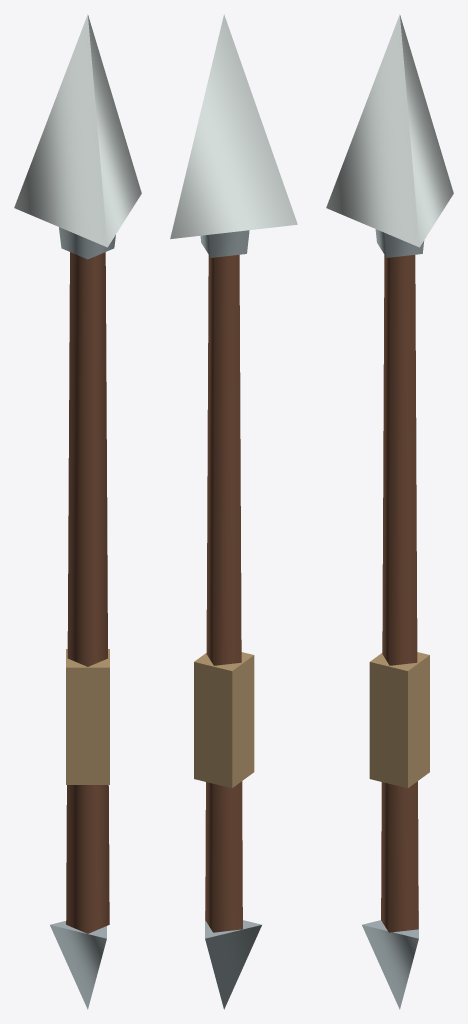
Rendered from fixed-spear-lod2.glb.
3 renders of one model, left to right at view 1: azimuth 90°, elevation 25°; view 2: azimuth 150°, elevation 25°; view 3: azimuth 330°, elevation 25°, orthographic.
Visible parts, largest first — view 1: piece_whole; view 2: piece_whole; view 3: piece_whole.
Boxes of the visible parts, <box> form: piece_whole: <box>14,14,141,1009</box>; piece_whole: <box>170,14,297,1009</box>; piece_whole: <box>326,14,453,1009</box>.
Size of the model in its own units: 0.2175 by 1.87 by 0.2175.
